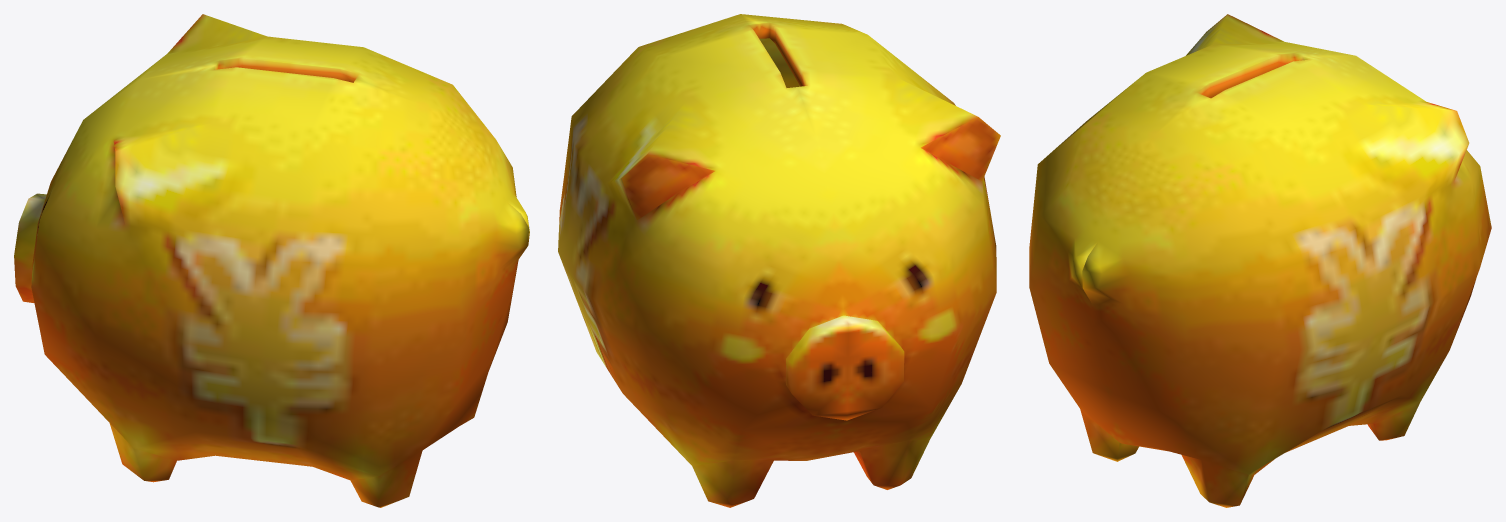
Rendered from dj_jinzhu1.fbx.
3 renders of one model, left to right at view 1: azimuth 30°, elevation 25°; view 2: azimuth 150°, elevation 25°; view 3: azimuth 270°, elevation 25°, orthographic. The views are drawn at different scales.
Visible parts, largest first — view 1: dj_jinzhu1; view 2: dj_jinzhu1; view 3: dj_jinzhu1.
Boxes of the visible parts, bbox=[...] form: dj_jinzhu1: bbox=[14, 14, 529, 507]; dj_jinzhu1: bbox=[558, 14, 1000, 507]; dj_jinzhu1: bbox=[1029, 14, 1491, 507].
Bounding box in the file's own units: 367 × 331 × 367.
